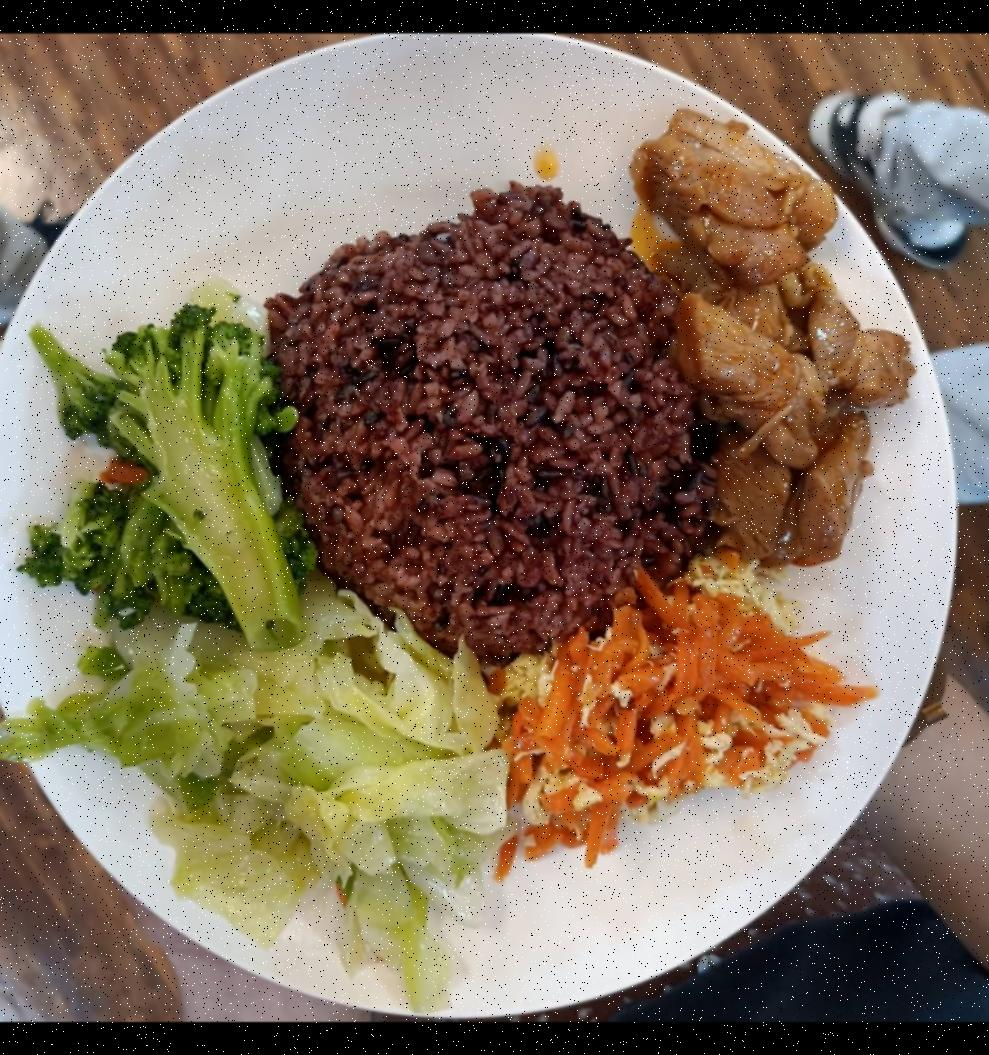plate: (0, 44, 959, 1022)
purple rice: (270, 192, 701, 648)
side dish: (0, 607, 519, 999), (25, 285, 326, 628), (506, 574, 862, 854)
three cup chicken: (642, 115, 924, 572)
